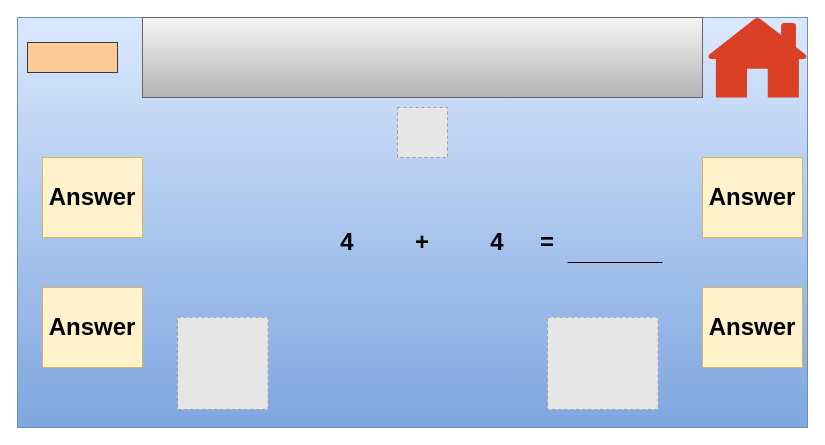
This 825x445 diagram has some shape labels left out. Grey dashed boxes stand in for pictures. The centre of each missing label's shape, as x and y in pixels:
"4 Better Maths" belongs at [422,57].
"Exit" belongs at [72,57].
